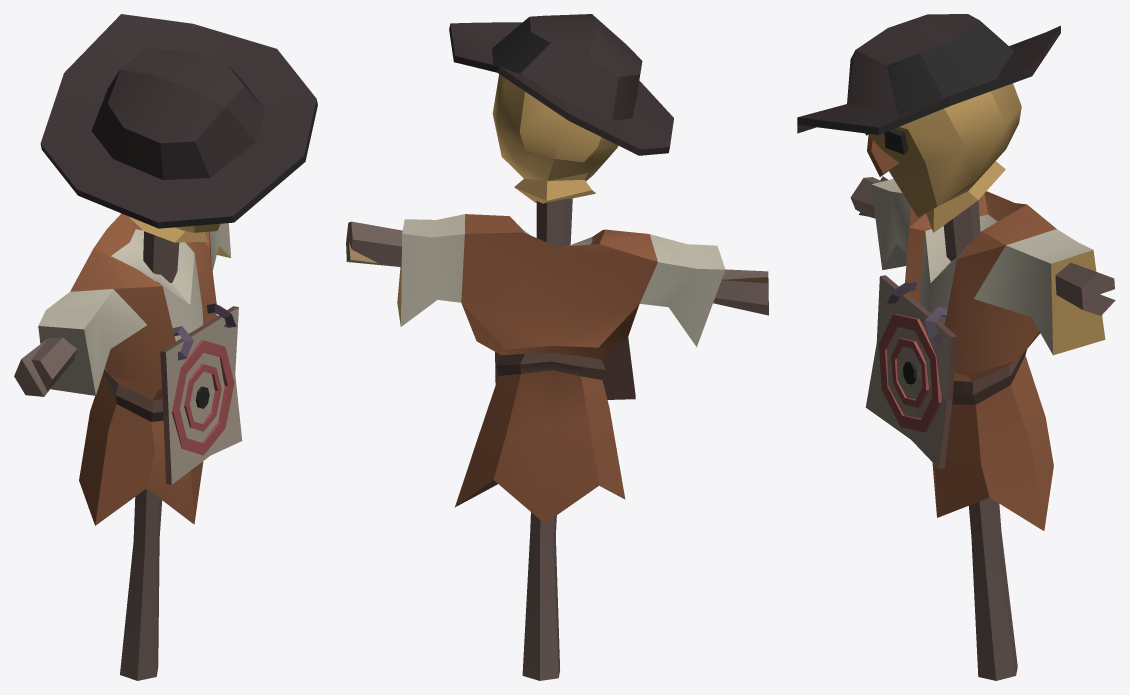
The model's file is scarecrow_target.glb.
3 views of the same model, side by side, from view 1: azimuth 30°, elevation 25°; view 2: azimuth 150°, elevation 25°; view 3: azimuth 270°, elevation 25° (orthographic). The views are drawn at different scales.
Visible parts, largest first — view 1: scarecrow.001, scarecrow_target, scarecrow_circles; view 2: scarecrow.001, scarecrow_target; view 3: scarecrow.001, scarecrow_target, scarecrow_circles.
Boxes of the visible parts, x1,y1,x2,y2 form: scarecrow.001: [14, 14, 317, 680]; scarecrow_target: [160, 306, 242, 484]; scarecrow_circles: [164, 303, 236, 360]; scarecrow.001: [346, 14, 768, 680]; scarecrow_target: [495, 337, 635, 399]; scarecrow.001: [797, 14, 1115, 680]; scarecrow_target: [865, 275, 957, 468]; scarecrow_circles: [887, 282, 954, 343].
Size of the model in its own units: 0.8927 by 1.62 by 0.7147.
Materials: 3 (2 with a texture image).
